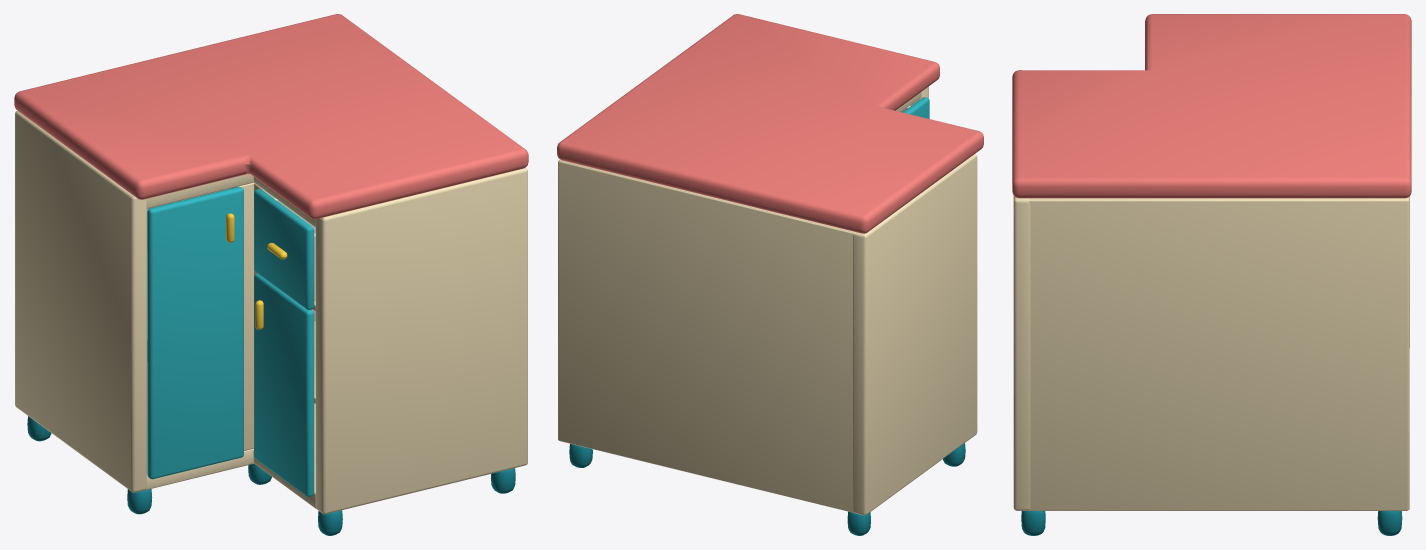
Rendered from armario_cozinha_canto_moderna_coral.glb.
The picture shows the model from 3 angles, left to right: view 1: azimuth 30°, elevation 25°; view 2: azimuth 150°, elevation 25°; view 3: azimuth 270°, elevation 25°; orthographic projection. The views are drawn at different scales.
Visible parts, largest first — view 1: armario_cozinha_canto_moderna_coral, porta_1, porta_2, gaveta_1; view 2: armario_cozinha_canto_moderna_coral; view 3: armario_cozinha_canto_moderna_coral.
Part boxes in pixels (left/top/right/bottom): armario_cozinha_canto_moderna_coral: left=14, top=14, right=528, bottom=535; porta_1: left=147, top=186, right=243, bottom=479; porta_2: left=254, top=273, right=314, bottom=496; gaveta_1: left=254, top=189, right=315, bottom=309; armario_cozinha_canto_moderna_coral: left=557, top=14, right=983, bottom=535; armario_cozinha_canto_moderna_coral: left=1012, top=14, right=1411, bottom=535.
Size of the model in its own units: 0.898 by 0.9 by 0.899.
Materials: 1 (1 with a texture image).
